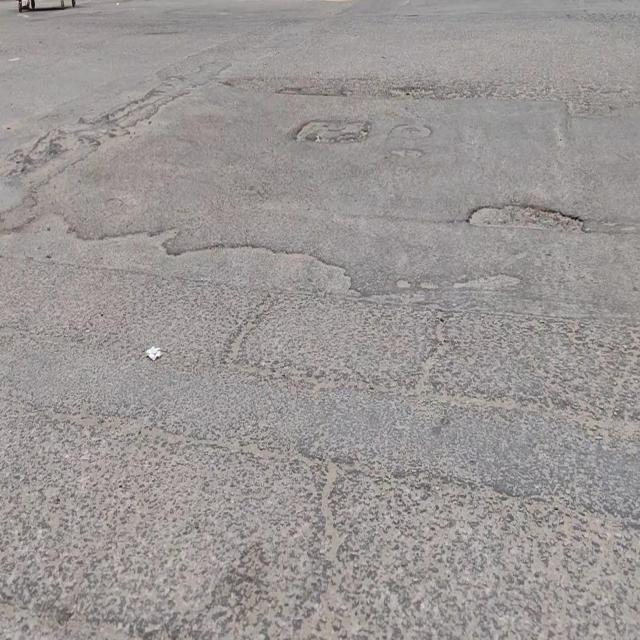Potholes: (464, 194, 585, 234), (291, 117, 372, 147)
